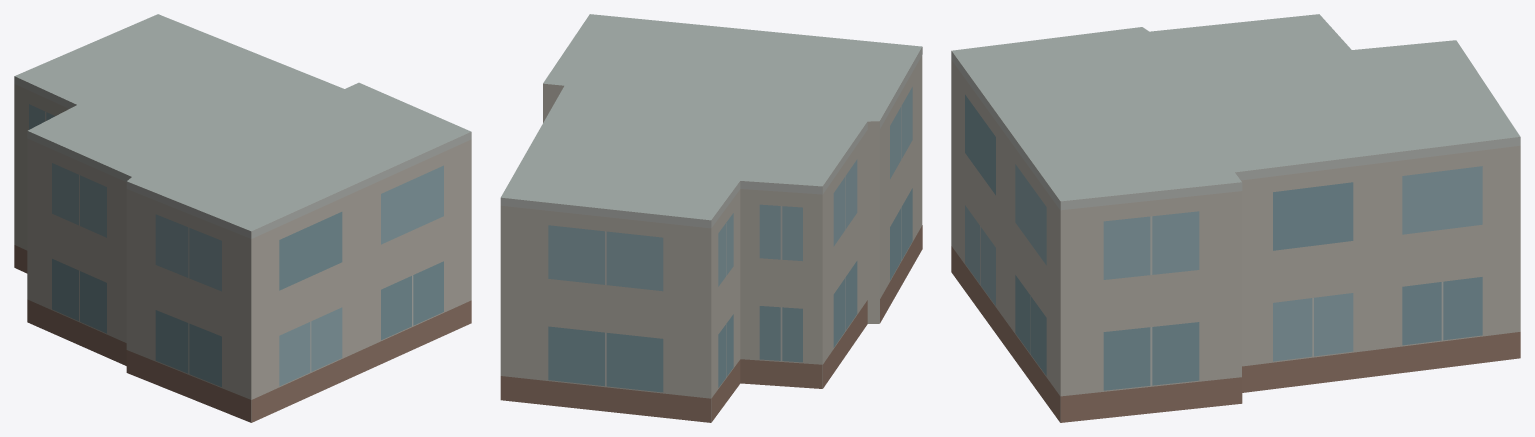
The model's file is survey-upis-32583177.glb.
3 views of the same model, side by side, from view 1: azimuth 30°, elevation 25°; view 2: azimuth 150°, elevation 25°; view 3: azimuth 270°, elevation 25° (orthographic). The views are drawn at different scales.
Parts seen in each view (by area): view 1: survey-upis-32583177.tmp; view 2: survey-upis-32583177.tmp; view 3: survey-upis-32583177.tmp.
Part boxes in pixels (<box>): survey-upis-32583177.tmp: <box>14,14,471,422</box>; survey-upis-32583177.tmp: <box>500,14,922,422</box>; survey-upis-32583177.tmp: <box>951,14,1520,422</box>.
Size of the model in its own units: 11.08 by 6.1 by 14.22.
